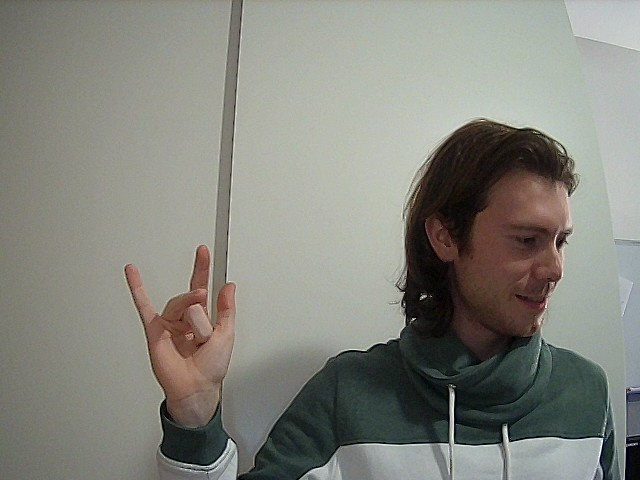reset: (103, 237, 260, 394)
